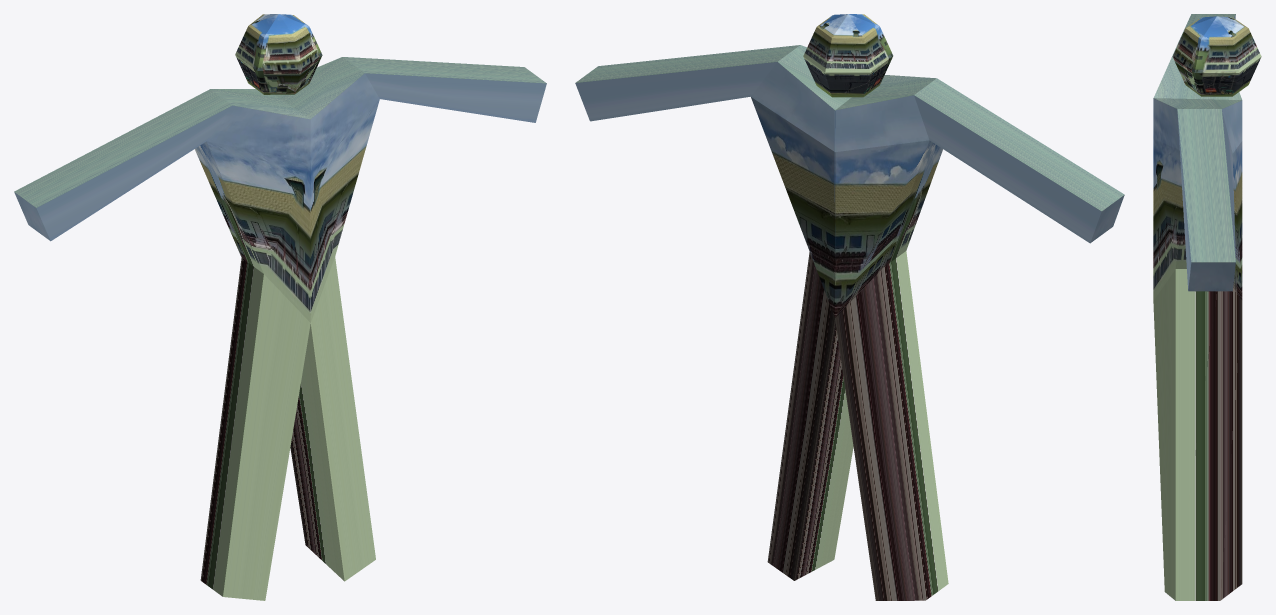
The model's file is guy.obj.
3 renders of one model, left to right at view 1: azimuth 30°, elevation 25°; view 2: azimuth 150°, elevation 25°; view 3: azimuth 270°, elevation 25°, orthographic. The views are drawn at different scales.
Parts seen in each view (by area): view 1: Cylinder; view 2: Cylinder; view 3: Cylinder.
Part boxes in pixels (x1=…): Cylinder: x1=14, y1=14, x2=546, y2=600; Cylinder: x1=575, y1=14, x2=1124, y2=600; Cylinder: x1=1153, y1=14, x2=1261, y2=600.
Size of the model in its own units: 13.2 by 13.78 by 2.43.
